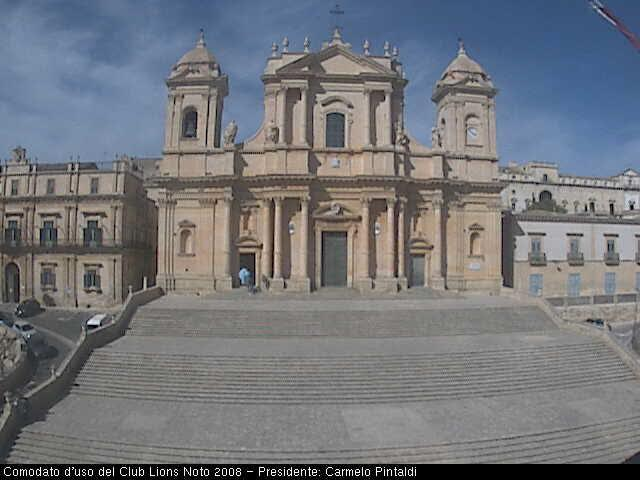person: (247, 280, 256, 297)
